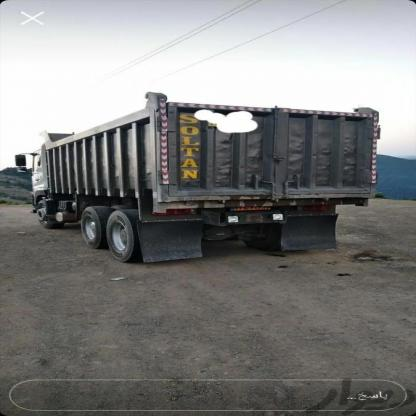Truck: (25, 105, 376, 266)
